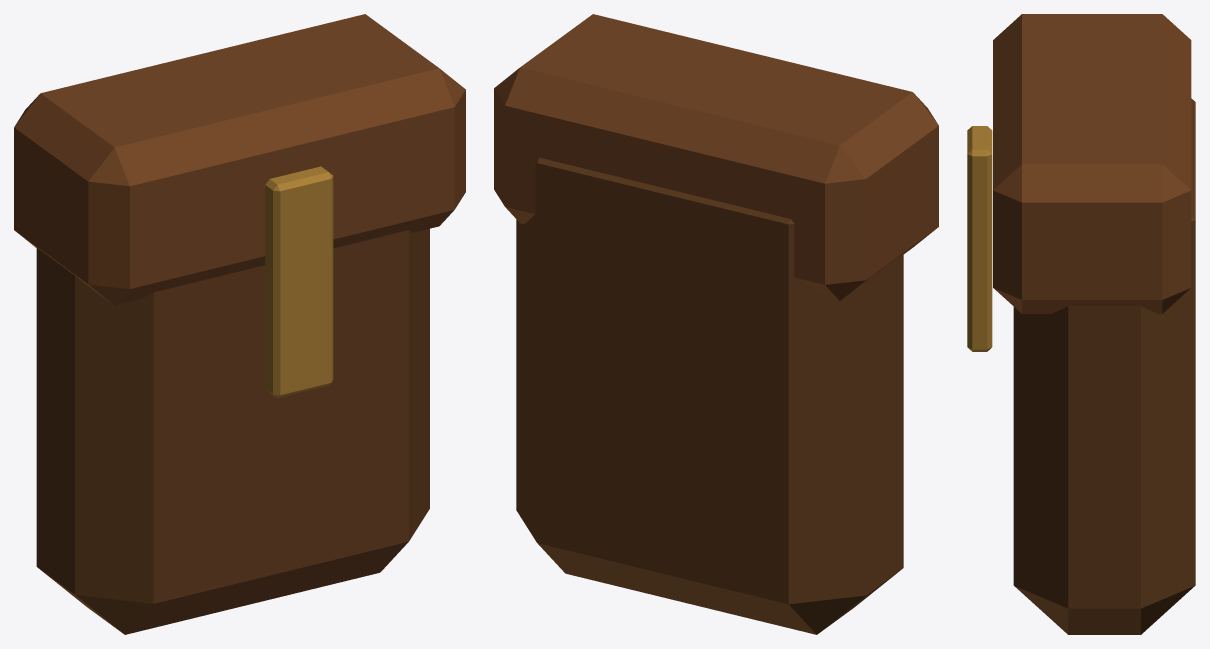
File: Backpack.glb
3 views of the same model, side by side, from view 1: azimuth 30°, elevation 25°; view 2: azimuth 150°, elevation 25°; view 3: azimuth 270°, elevation 25° (orthographic). The views are drawn at different scales.
Visible parts, largest first — view 1: geometry_0; view 2: geometry_0; view 3: geometry_0.
Part boxes in pixels (left/top/right/bottom): geometry_0: left=14, top=14, right=465, bottom=634; geometry_0: left=494, top=14, right=938, bottom=634; geometry_0: left=967, top=14, right=1195, bottom=634.
Size of the model in its own units: 0.5 by 0.65 by 0.276.
